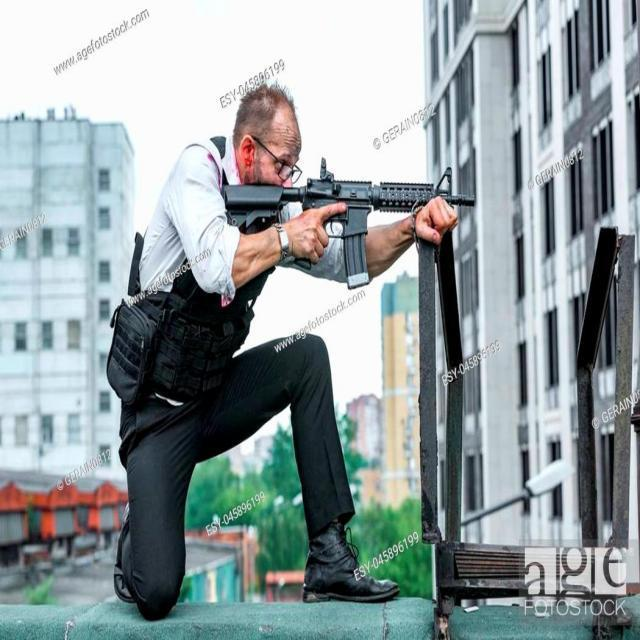gun: (222, 154, 476, 286)
